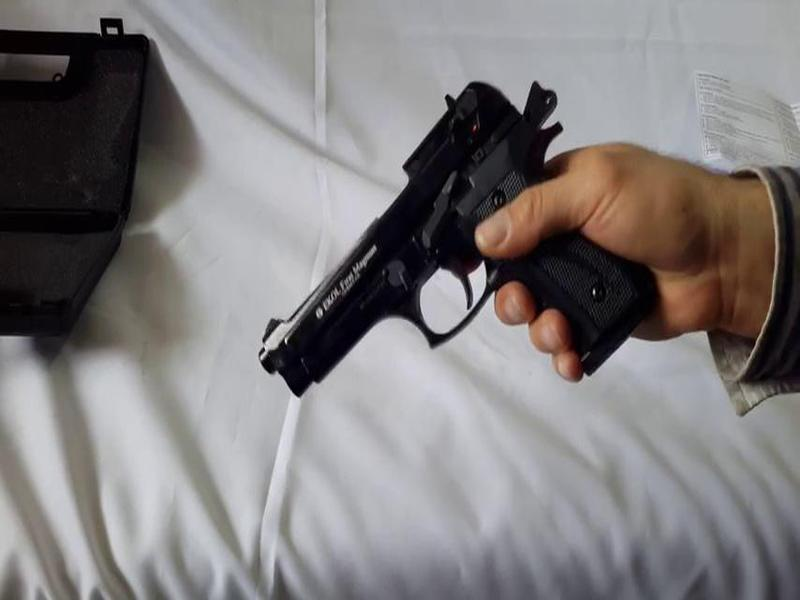Pistola: (244, 69, 686, 413)
